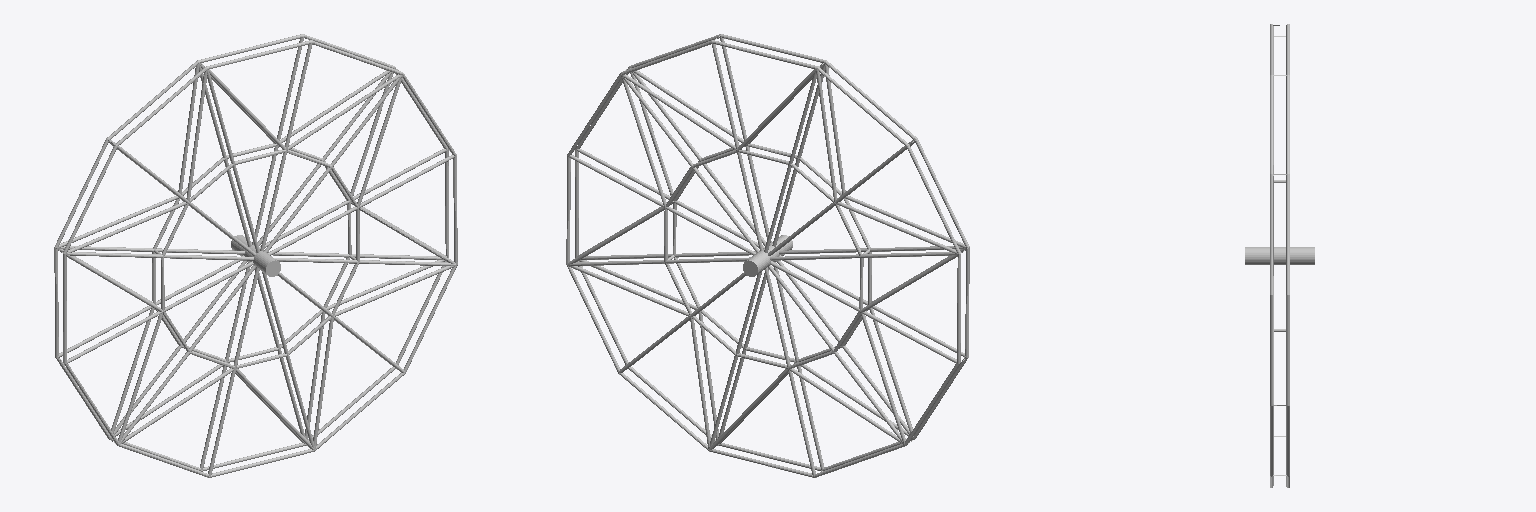
The model's file is 대관람차 원통.obj.
3 views of the same model, side by side, from view 1: azimuth 30°, elevation 25°; view 2: azimuth 150°, elevation 25°; view 3: azimuth 270°, elevation 25° (orthographic).
Parts seen in each view (by area): view 1: Ferris_Torus_001; view 2: Ferris_Torus_001; view 3: Ferris_Torus_001.
Part boxes in pixels (x1,y1,x2,y2): Ferris_Torus_001: (54,34,457,477); Ferris_Torus_001: (566,34,969,477); Ferris_Torus_001: (1245,24,1314,487).
Bounding box in the file's own units: 58.55 × 58.55 × 9.